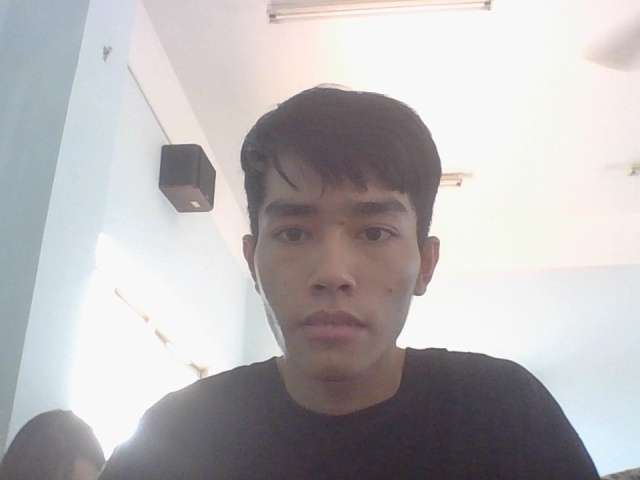real: (225, 74, 457, 403)
